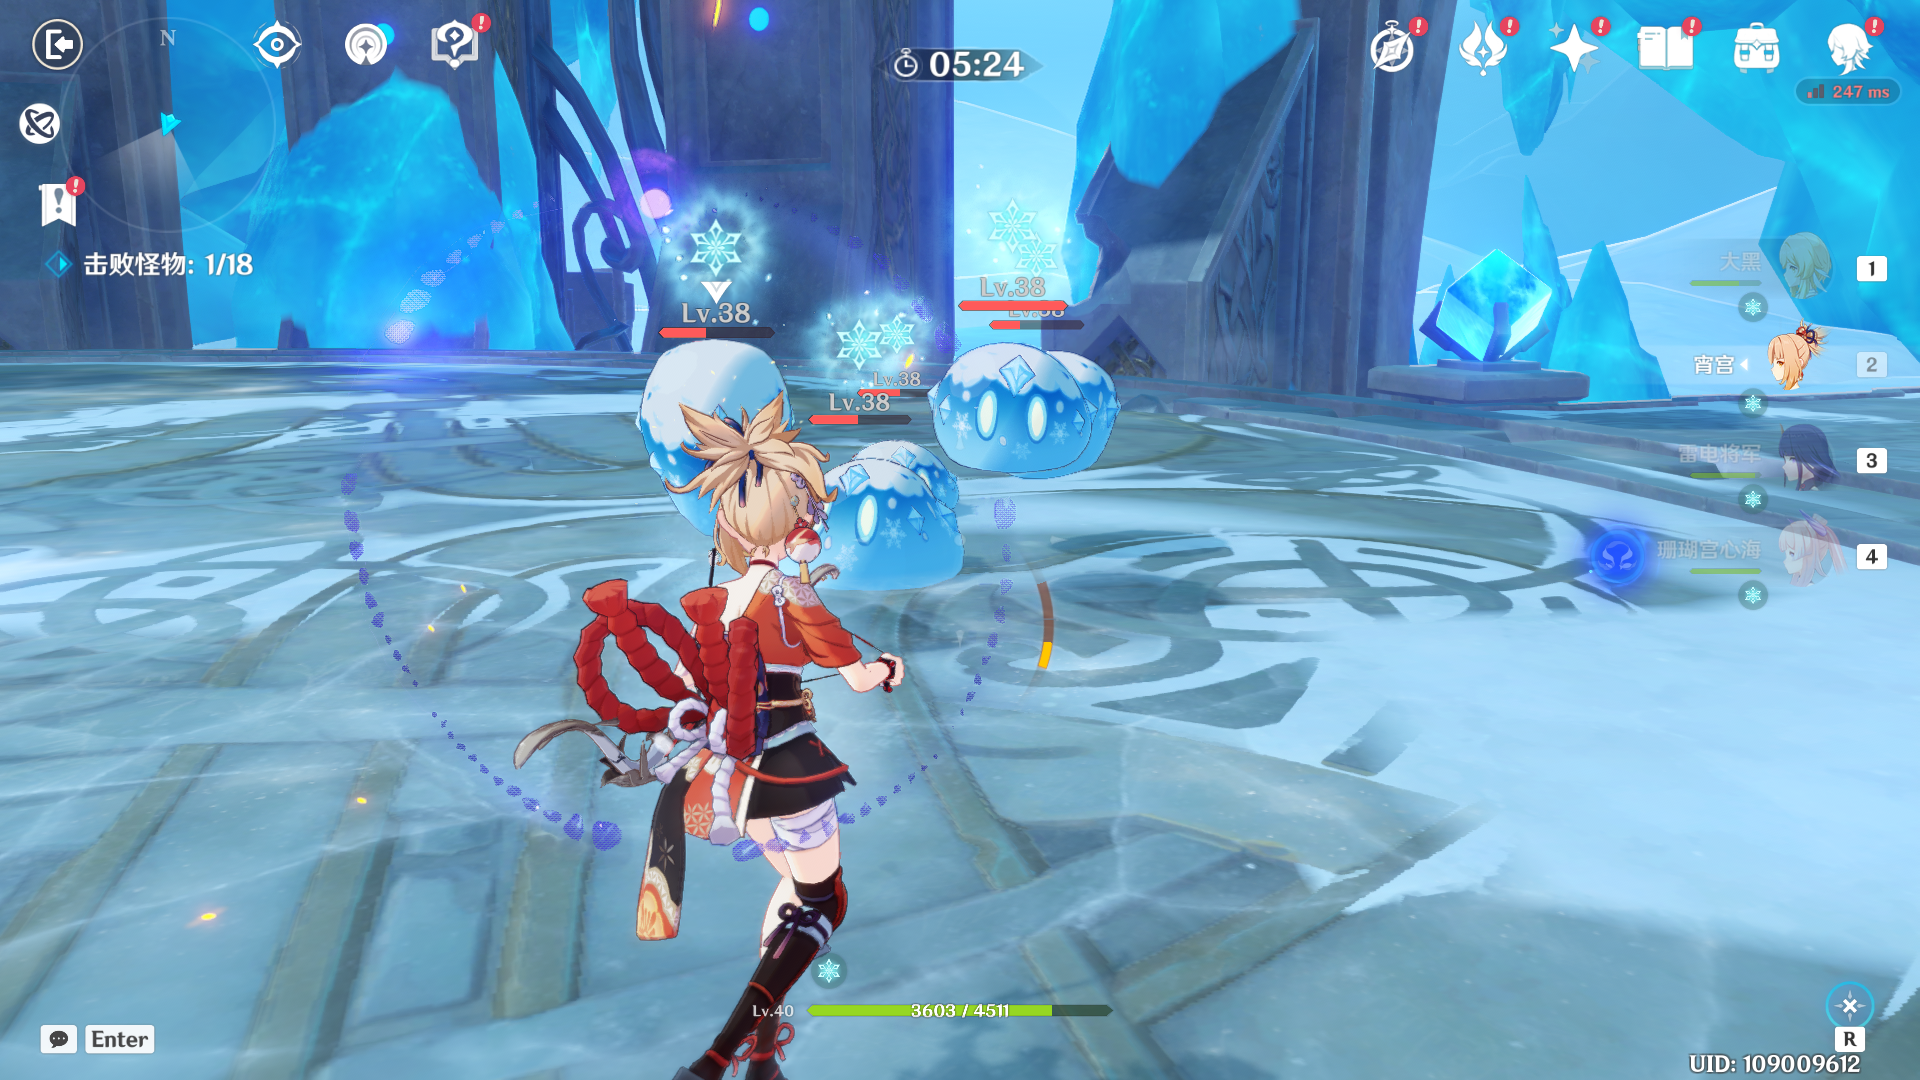character: (512, 417, 980, 1080)
slime: (909, 328, 1116, 484), (781, 455, 982, 607), (622, 342, 808, 483)
